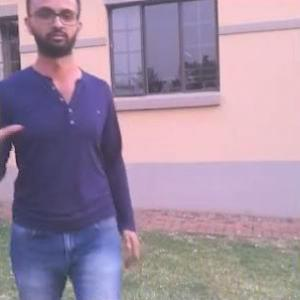follow: (0, 0, 143, 299)
